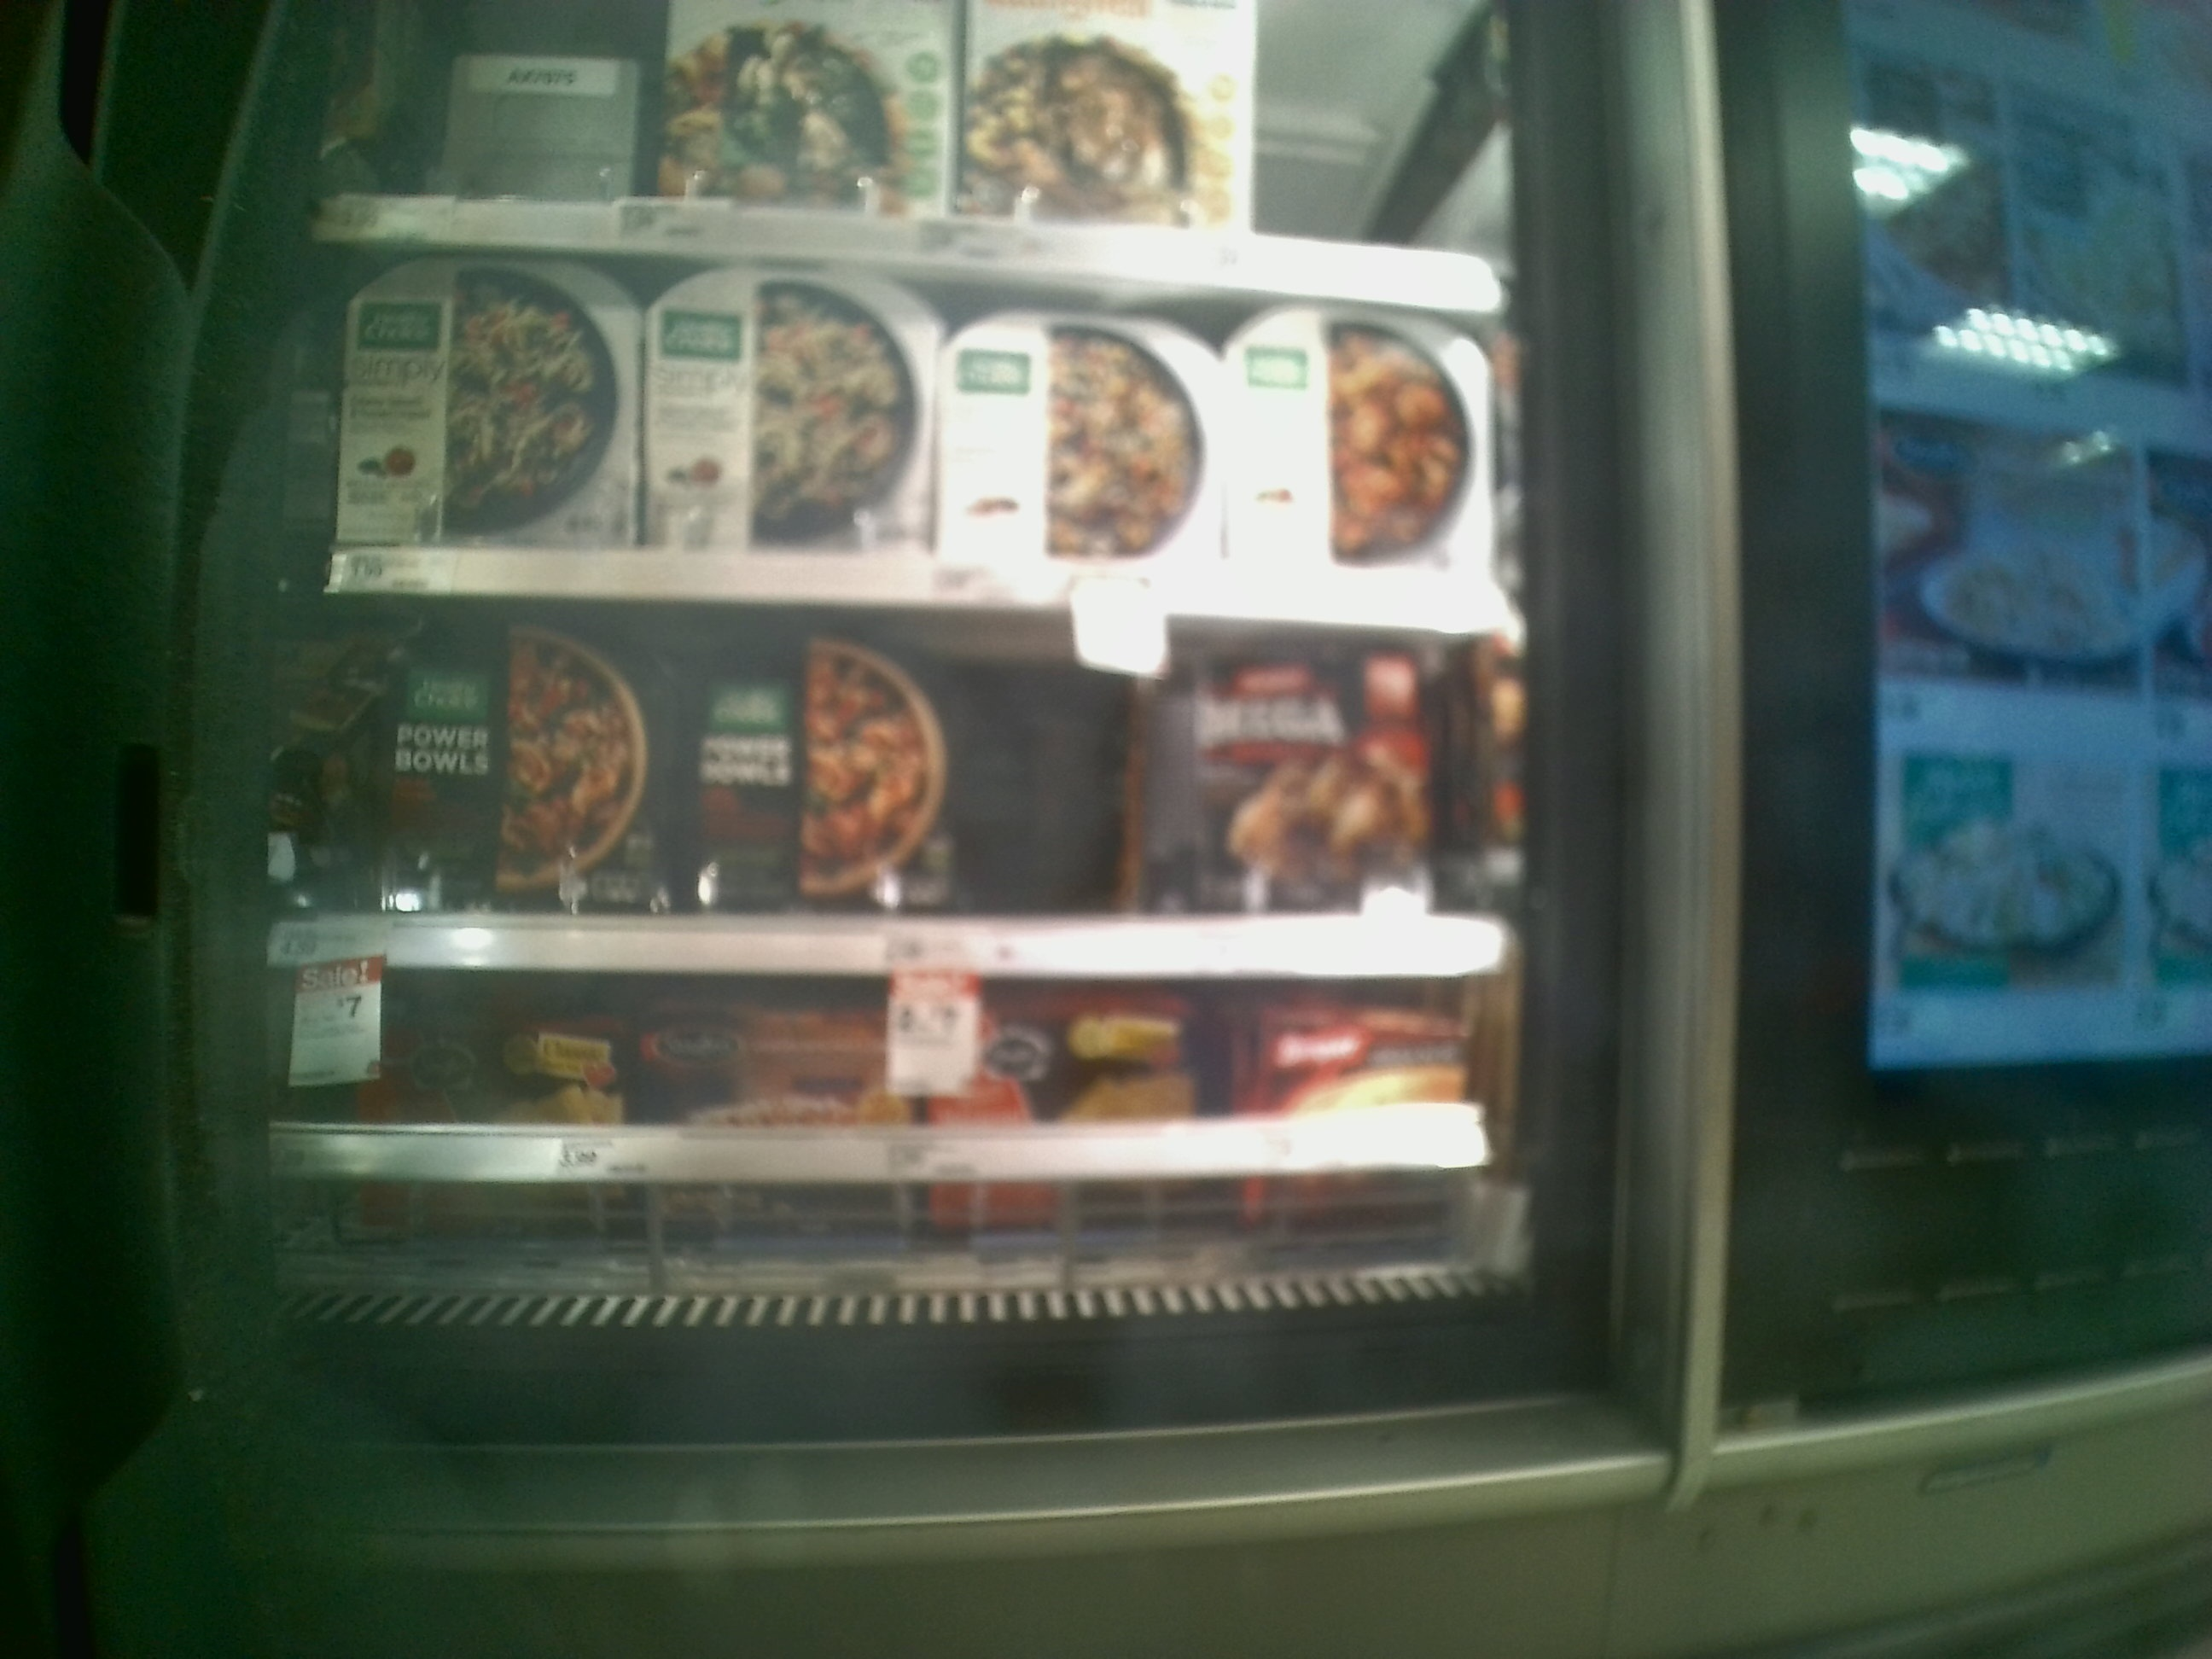pizza: (347, 627, 671, 925), (637, 260, 948, 544), (340, 251, 643, 538), (676, 624, 972, 908), (939, 307, 1233, 558), (1160, 636, 1440, 899), (1230, 307, 1510, 556), (968, 0, 1254, 239), (665, 0, 949, 207)
